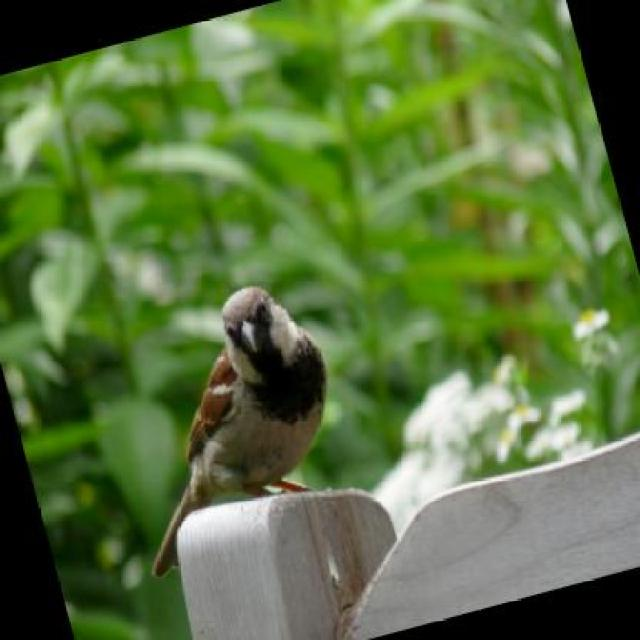sparrow: (145, 274, 350, 509)
